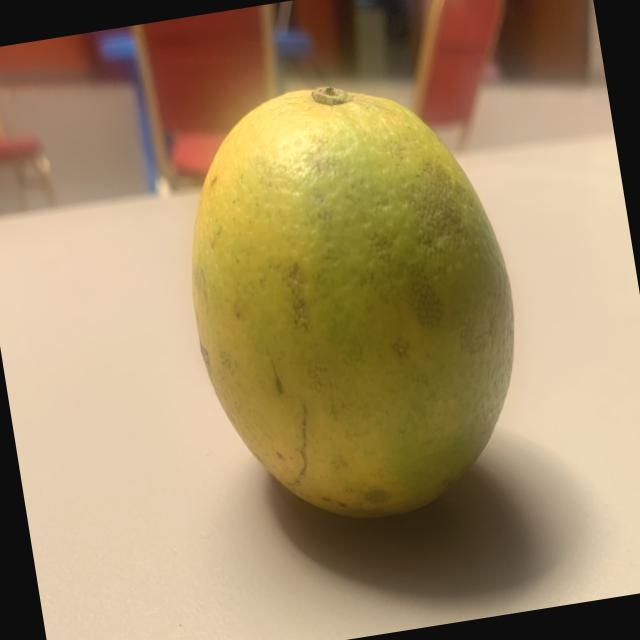agrume: (155, 56, 549, 548)
